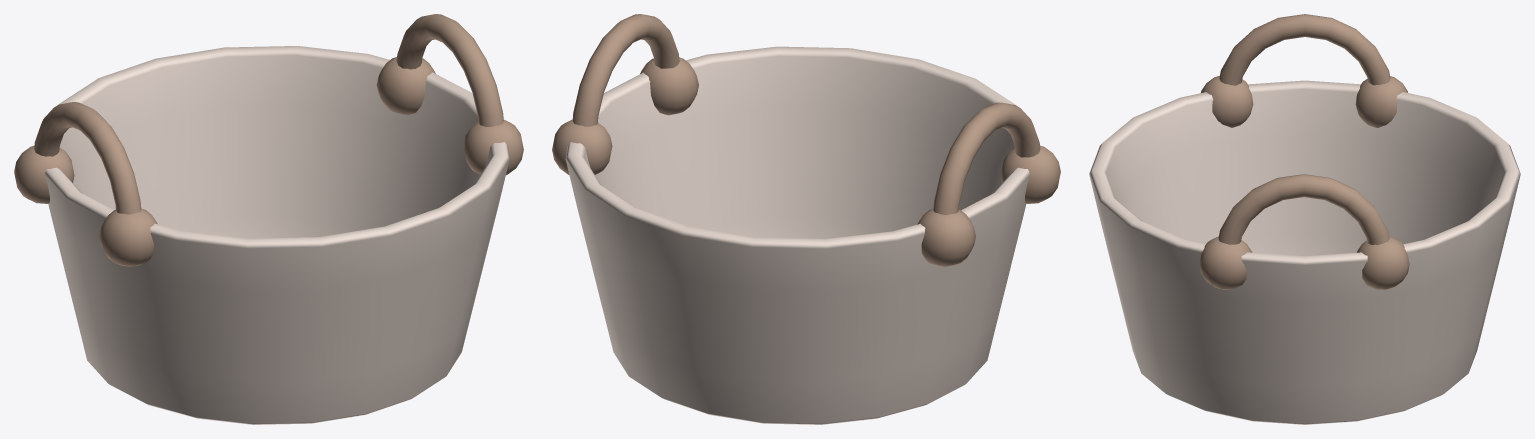
The model's file is Basket_1.glb.
3 renders of one model, left to right at view 1: azimuth 30°, elevation 25°; view 2: azimuth 150°, elevation 25°; view 3: azimuth 270°, elevation 25°, orthographic. The views are drawn at different scales.
Parts seen in each view (by area): view 1: Basket_2; view 2: Basket_2; view 3: Basket_2.
Part boxes in pixels (x1,y1,x2,y2): Basket_2: [14, 14, 523, 424]; Basket_2: [552, 14, 1060, 424]; Basket_2: [1089, 14, 1520, 424].
Bounding box in the file's own units: 0.8773 × 0.5683 × 0.8649.
Materials: 1 (1 with a texture image).
